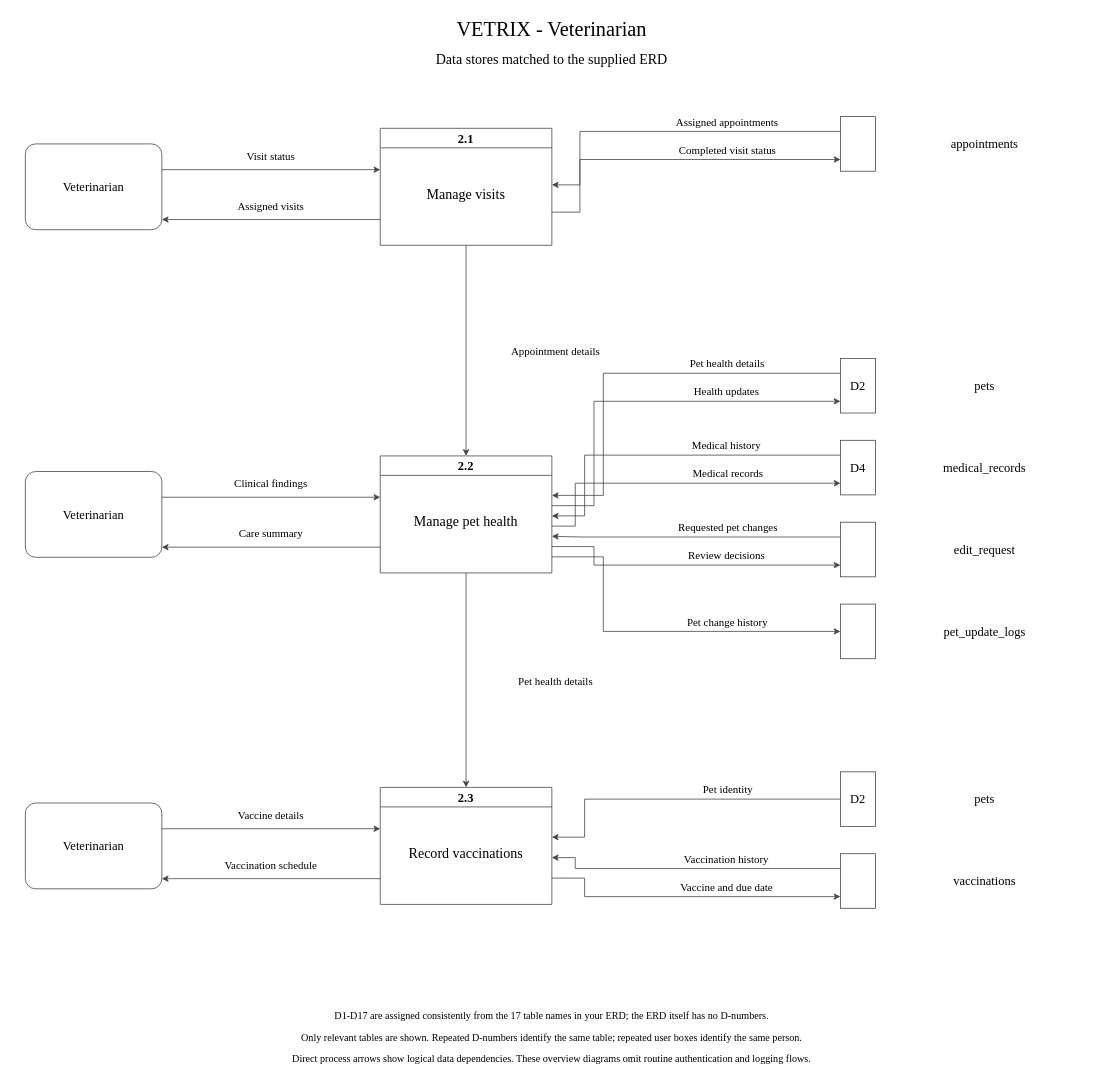
The diagram is 1108 pixels wide and 1080 high, and some of its shapes have lost their labels. The shapes that lost their labels are listed below. From the top down, each one's centre as x and y in pixels, then its label:
At (858,143): "D3".
At (858,549): "D6".
At (858,631): "D7".
At (858,880): "D5".
